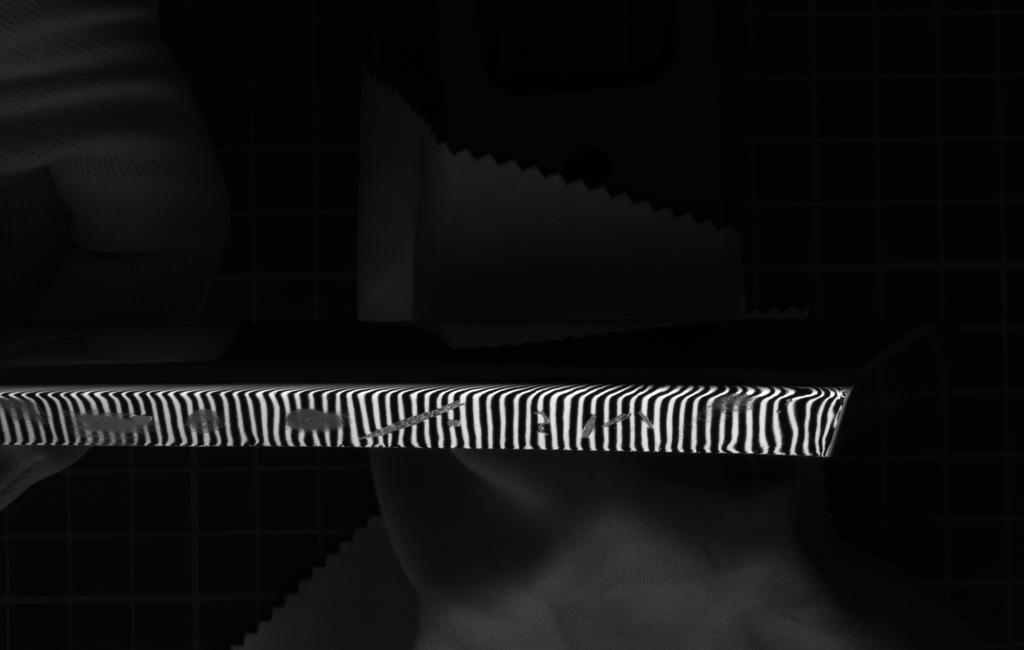Pierced: (444, 417, 464, 432)
Pitting: (69, 407, 164, 442), (1, 388, 59, 436), (688, 390, 760, 424), (177, 402, 236, 441), (277, 406, 350, 435)
Scratch: (365, 397, 469, 440), (575, 409, 600, 443), (531, 399, 552, 438), (602, 407, 634, 432), (634, 407, 658, 438)
